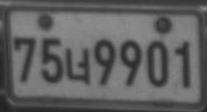0: (145, 41, 170, 87)
1: (173, 40, 195, 89)
5: (40, 37, 63, 84)
7: (13, 36, 36, 82)
9: (119, 39, 143, 87), (93, 39, 116, 86)
너: (64, 48, 91, 85)
